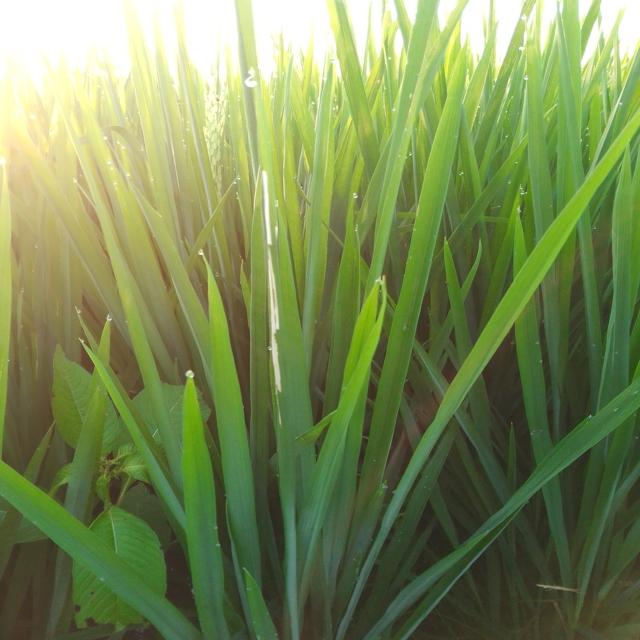Bacterial leaf blight: (249, 158, 306, 414)
